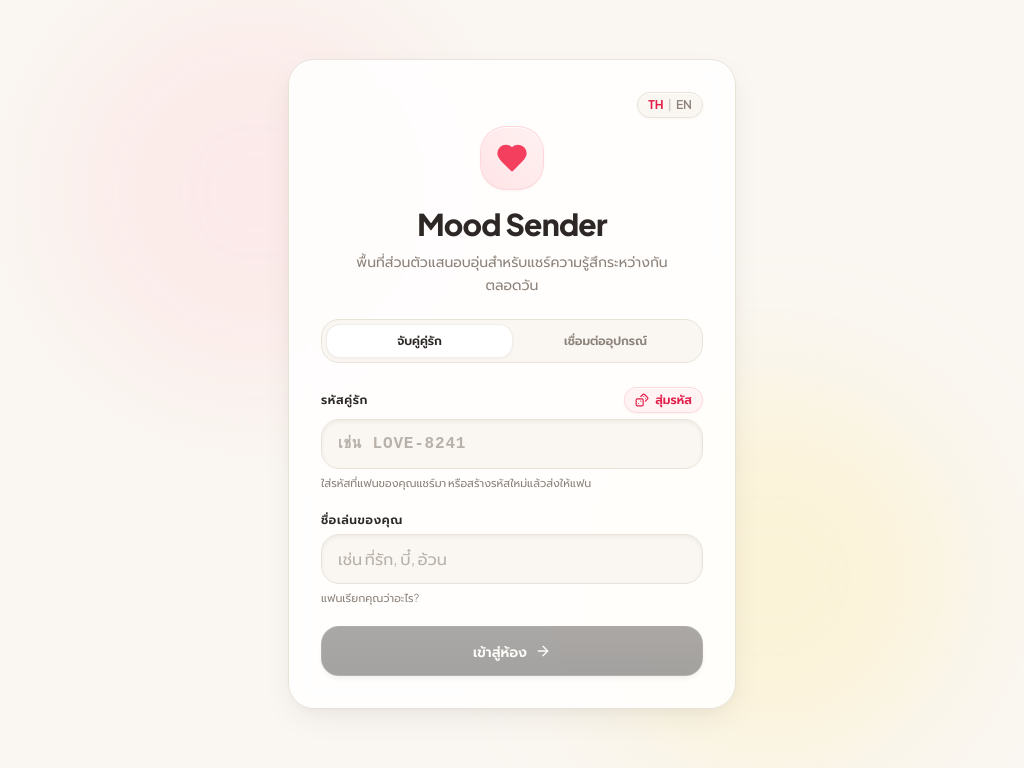
Test case: Frontend UI Components › PairModal Component › shows inline error alert when couple code is full
Type "LOVE-FULL" into the field labelled "รหัสคู่รัก". click: x=512, y=444
box: [321, 419, 703, 469]
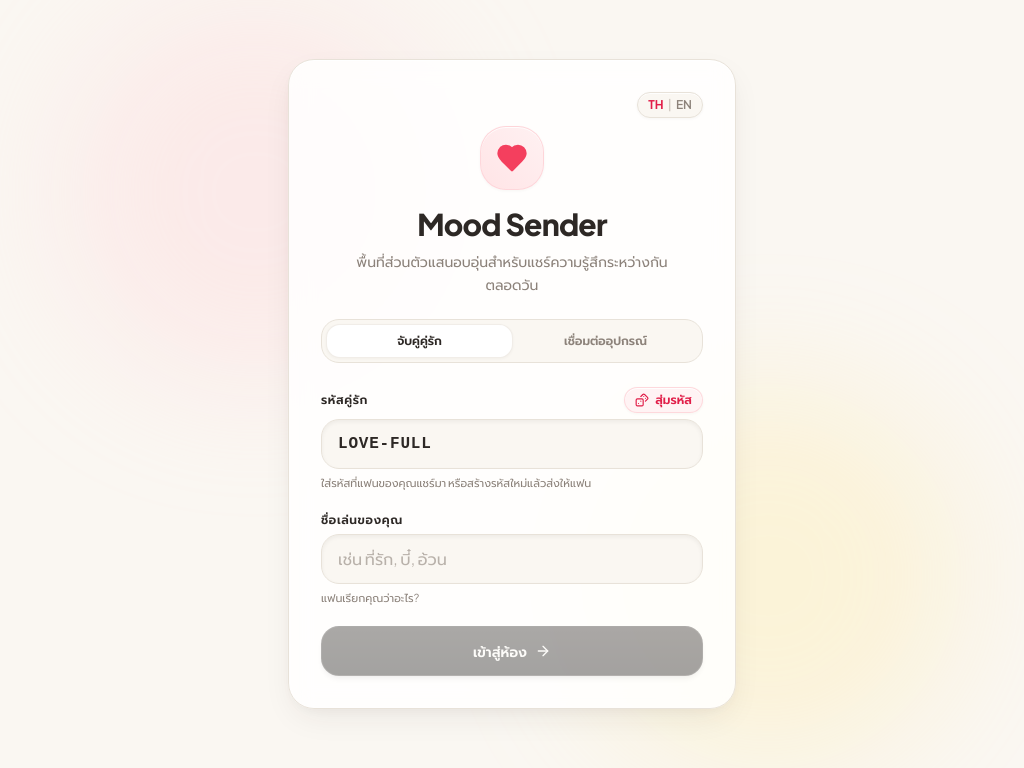
Type "Taylor" into the field labelled "ชื่อเล่นของคุณ". click: x=512, y=559
box: [321, 534, 703, 584]
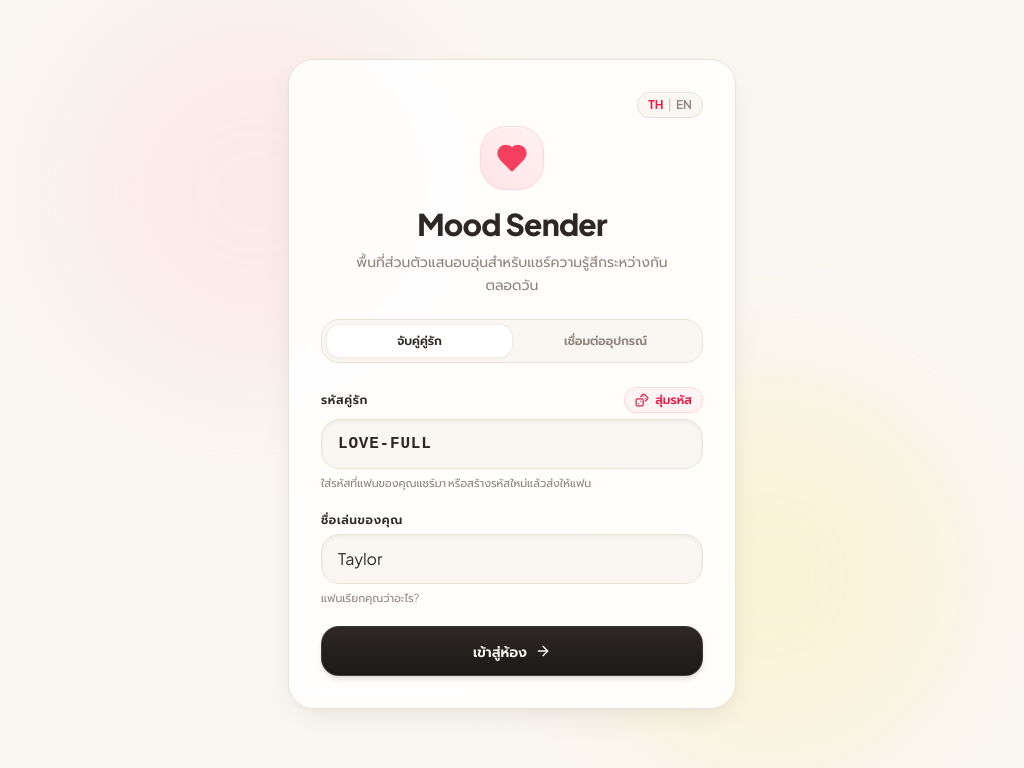
Submit the text "เข้าสู่ห้อง", box [321, 387, 703, 676]
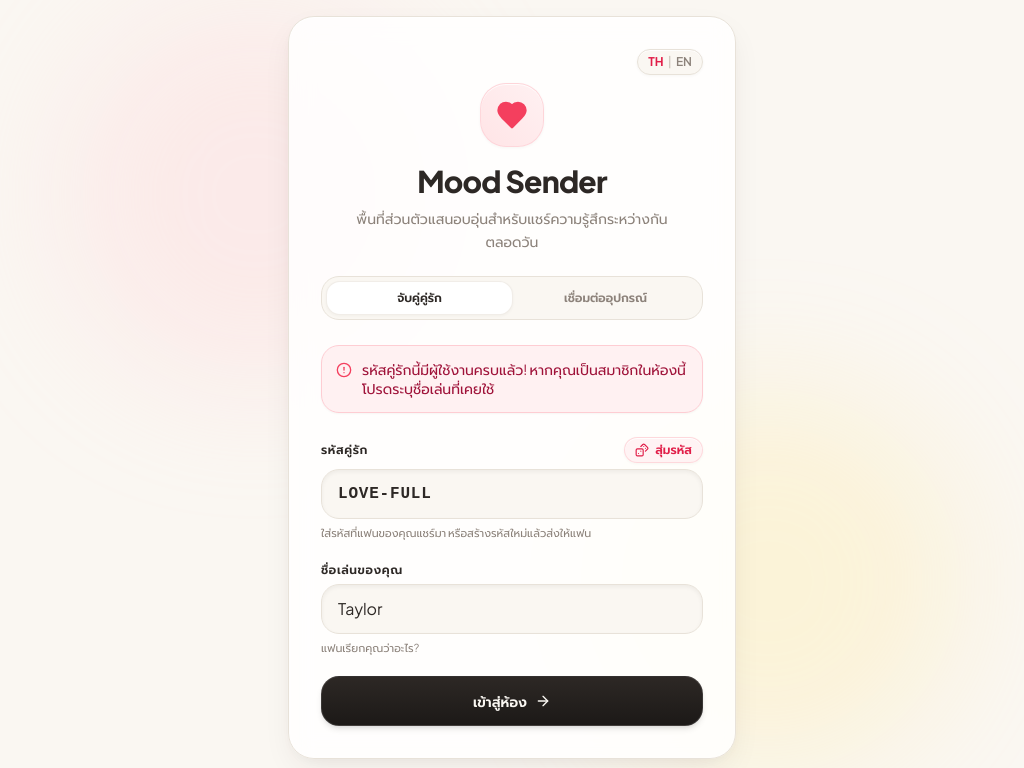
Check: the text "รหัสคู่รักนี้มีผู้ใช้งานครบแล้ว" is shown, box [362, 360, 686, 397]
